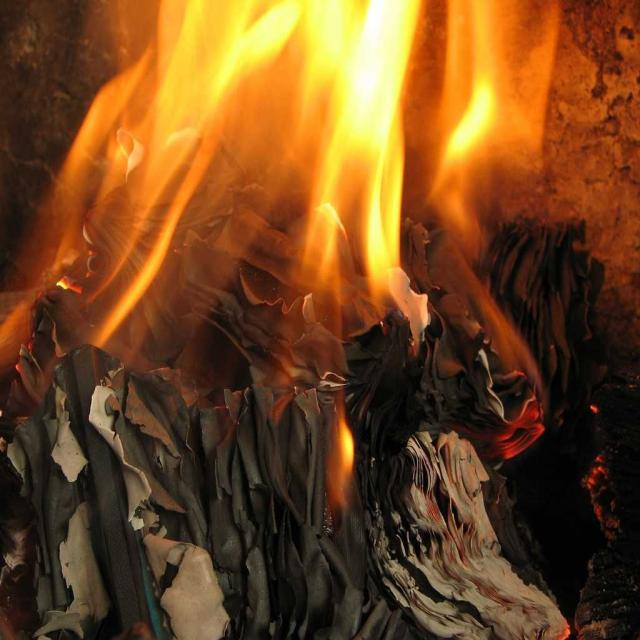Fire: (74, 8, 578, 320)
